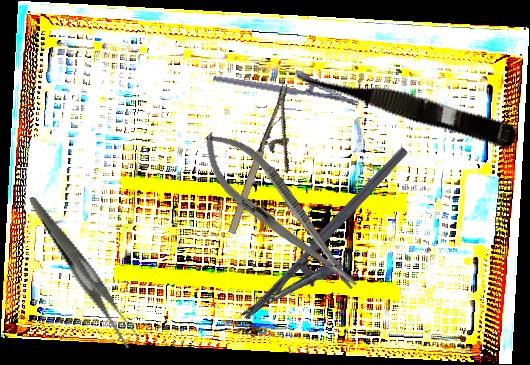Dressing Forceps: (29, 179, 141, 363)
Micro Scissor: (291, 57, 521, 151)
Needle Holder: (239, 146, 433, 343), (187, 117, 373, 307), (223, 82, 319, 245), (212, 55, 364, 108)
